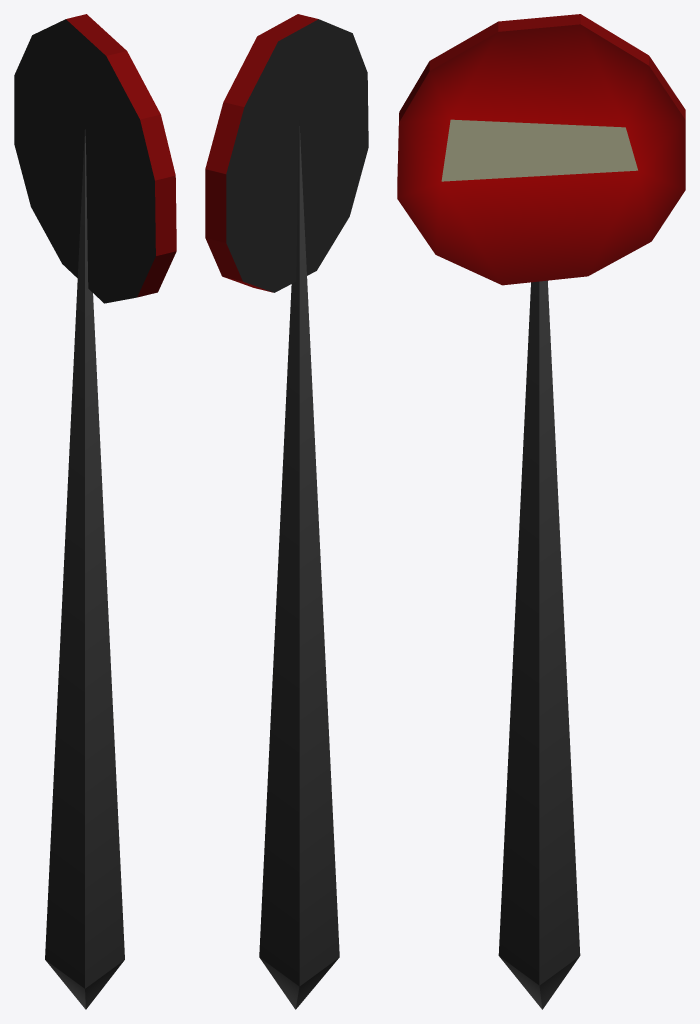
Rendered from c_street_sign_ab.fbx.
3 views of the same model, side by side, from view 1: azimuth 30°, elevation 25°; view 2: azimuth 150°, elevation 25°; view 3: azimuth 270°, elevation 25° (orthographic).
Visible parts, largest first — view 1: c_street_sign_ab; view 2: c_street_sign_ab; view 3: c_street_sign_ab.
Part boxes in pixels (left/top/right/bottom): c_street_sign_ab: left=14, top=14, right=176, bottom=1009; c_street_sign_ab: left=205, top=14, right=368, bottom=1009; c_street_sign_ab: left=397, top=14, right=685, bottom=1009.
Size of the model in its own units: 0.2191 by 3.41 by 0.8953.
